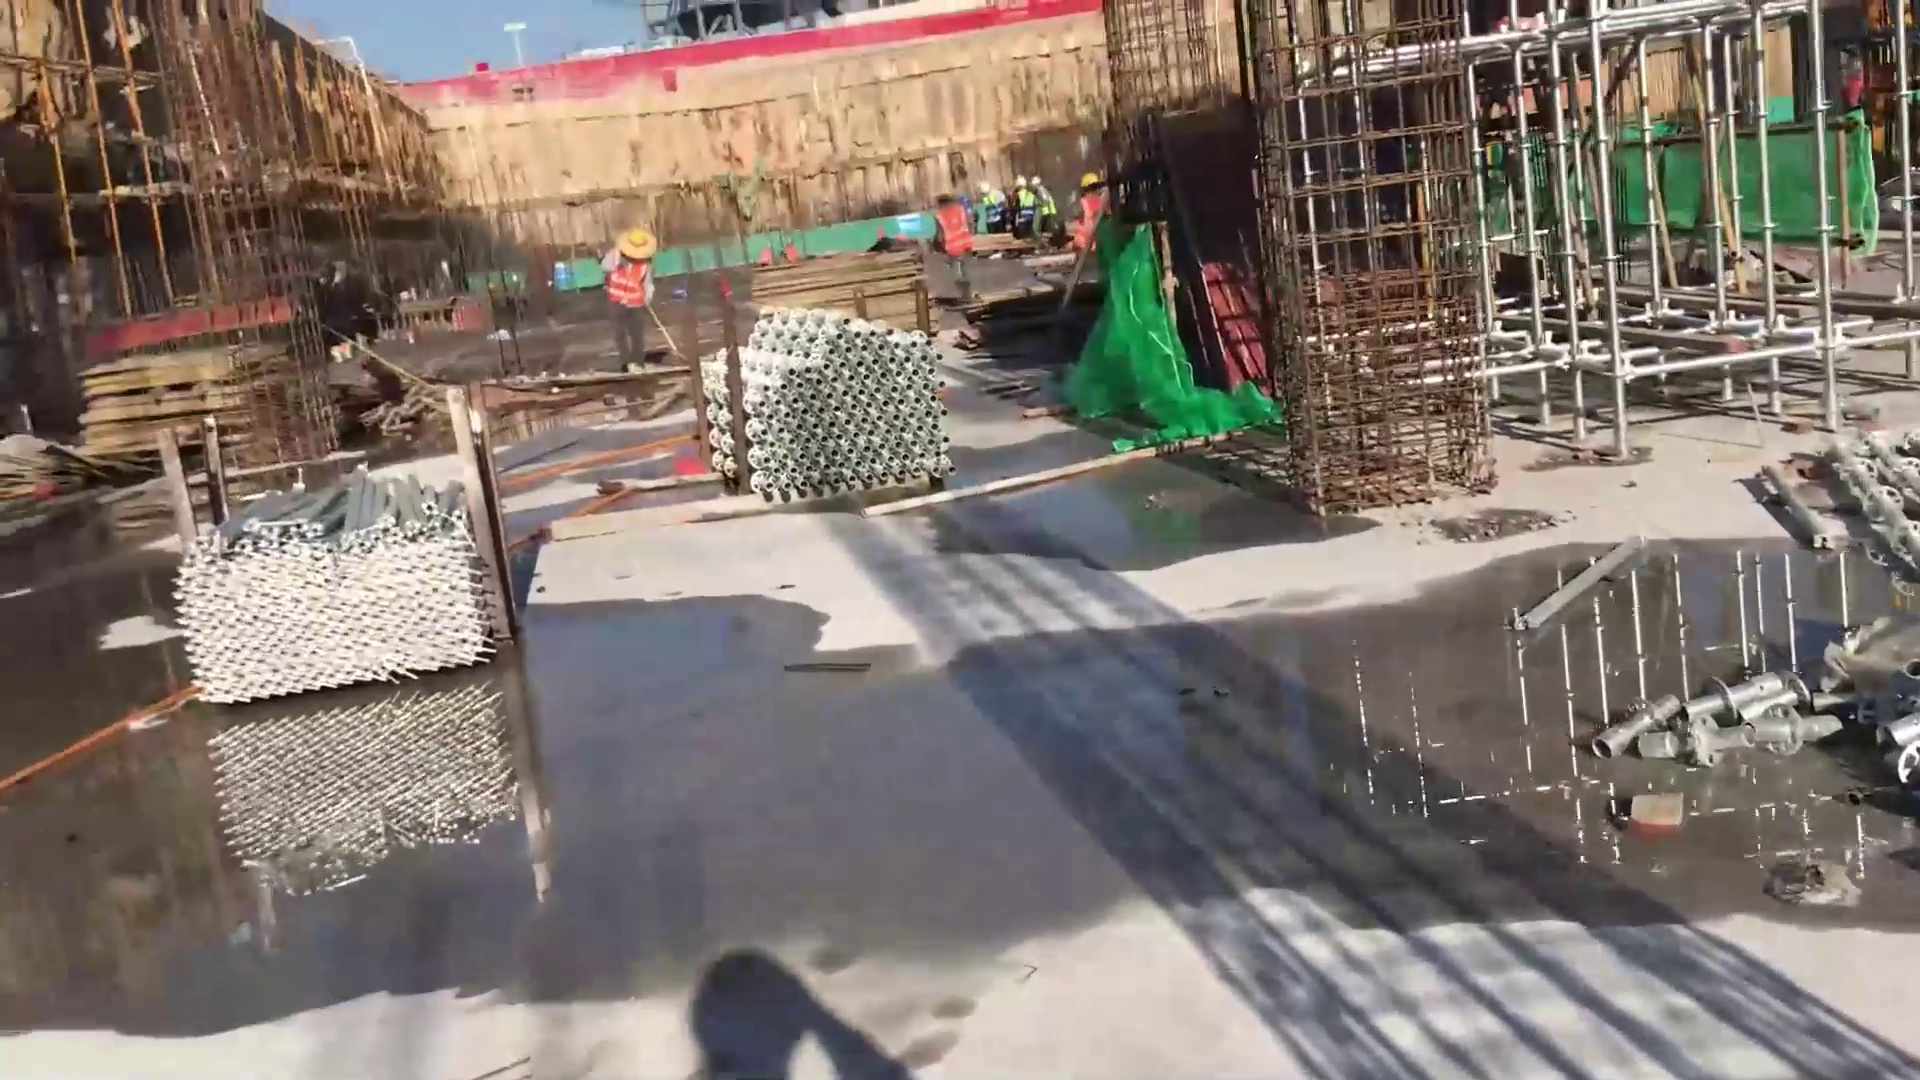board: (65, 336, 300, 456), (743, 239, 968, 349)
fence: (522, 3, 1113, 75)
helmet: (1080, 167, 1101, 192), (932, 184, 954, 200), (1013, 175, 1028, 192), (978, 182, 992, 198), (1031, 174, 1043, 191)
person: (598, 226, 669, 383), (928, 182, 975, 270), (1073, 170, 1115, 255), (974, 176, 1011, 238), (1028, 176, 1059, 237), (1010, 174, 1038, 236)
scaffold: (145, 469, 519, 693), (700, 293, 945, 516)
vest: (607, 251, 656, 311), (931, 202, 974, 254)
